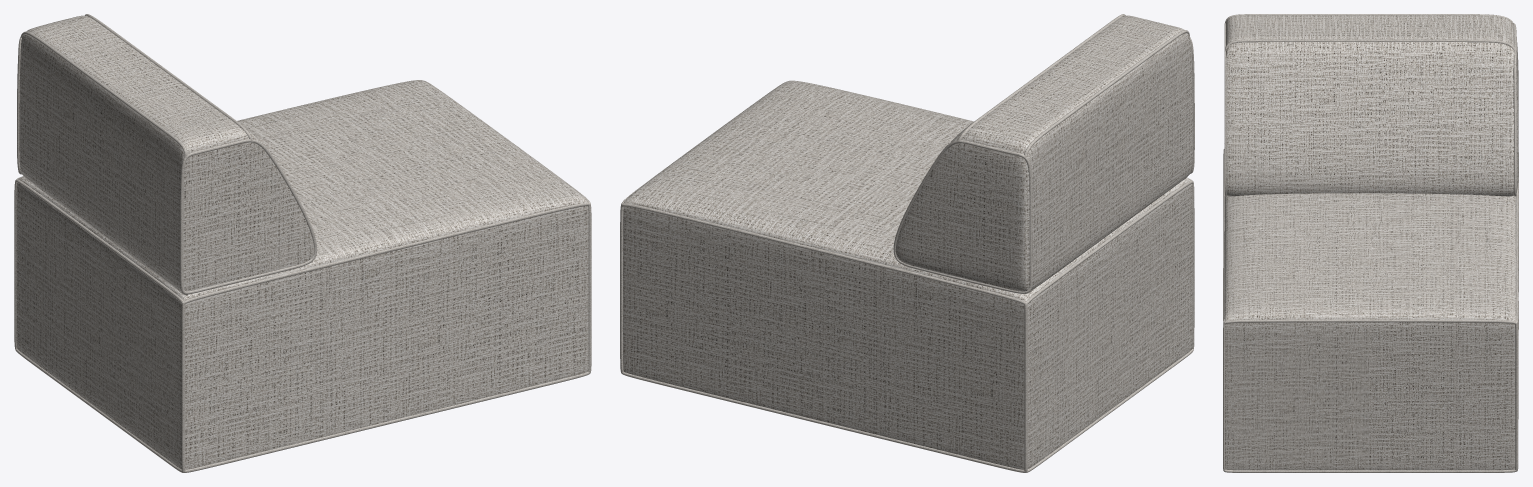
The model's file is armless_1_seater_75_alpine_gray.glb.
3 renders of one model, left to right at view 1: azimuth 30°, elevation 25°; view 2: azimuth 150°, elevation 25°; view 3: azimuth 270°, elevation 25°, orthographic. The views are drawn at different scales.
Parts seen in each view (by area): view 1: Box093, Box097, Shape043, Shape039; view 2: Box093, Box097, Shape043, Shape039; view 3: Box093, Box097, Shape043, Shape039.
Part boxes in pixels (left/top/right/bottom): Box093: left=16, top=80, right=588, bottom=469; Box097: left=19, top=15, right=314, bottom=292; Shape043: left=14, top=81, right=591, bottom=472; Shape039: left=17, top=14, right=317, bottom=295; Box093: left=623, top=80, right=1192, bottom=469; Box097: left=895, top=15, right=1192, bottom=291; Shape043: left=620, top=82, right=1194, bottom=472; Shape039: left=893, top=14, right=1194, bottom=293; Box093: left=1224, top=193, right=1518, bottom=470; Box097: left=1226, top=15, right=1518, bottom=196; Shape043: left=1223, top=149, right=1518, bottom=472; Shape039: left=1224, top=14, right=1516, bottom=196.
Bounding box in the file's own units: 1.07 × 0.8369 × 0.7623.
2 materials, 2 textured.
